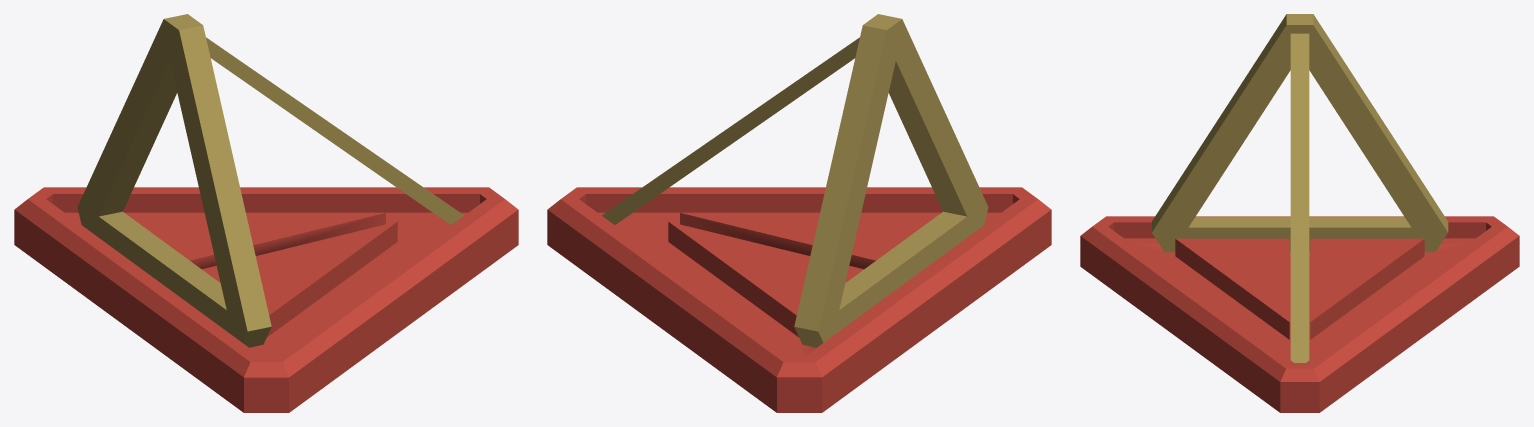
File: Small Barricade.fbx
3 views of the same model, side by side, from view 1: azimuth 30°, elevation 25°; view 2: azimuth 150°, elevation 25°; view 3: azimuth 270°, elevation 25° (orthographic). The views are drawn at different scales.
Visible parts, largest first — view 1: Small Barricade; view 2: Small Barricade; view 3: Small Barricade.
Part boxes in pixels (<box>): Small Barricade: <box>14,14,518,412</box>; Small Barricade: <box>547,14,1051,412</box>; Small Barricade: <box>1080,14,1519,412</box>.
Bounding box in the file's own units: 0.6687 × 0.7722 × 0.4973.
